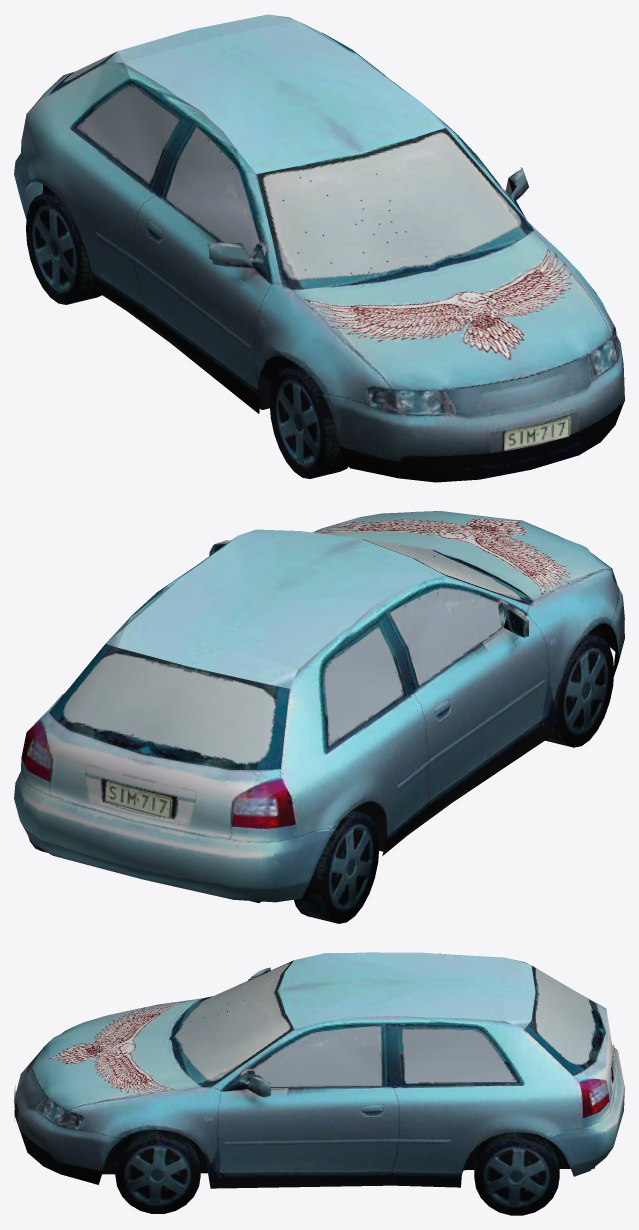
Rendered from VH_Audi.obj.
3 views of the same model, one above another, from view 1: azimuth 30°, elevation 25°; view 2: azimuth 150°, elevation 25°; view 3: azimuth 270°, elevation 25° (orthographic). The views are drawn at different scales.
Parts seen in each view (by area): view 1: VH_Audi; view 2: VH_Audi; view 3: VH_Audi.
Boxes of the visible parts, x1,y1,x2,y2 form: VH_Audi: (14,14,624,482); VH_Audi: (14,511,624,923); VH_Audi: (14,952,624,1215).
Size of the model in its own units: 0.6797 by 0.4881 by 1.51.
1 material, 1 textured.
